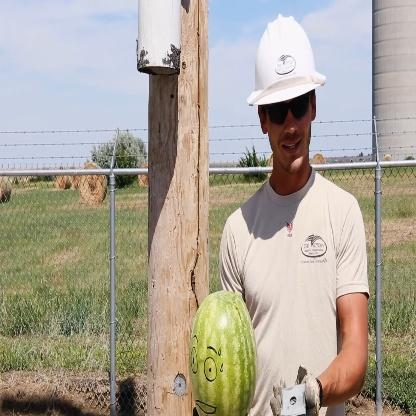helmet: (246, 13, 333, 180)
